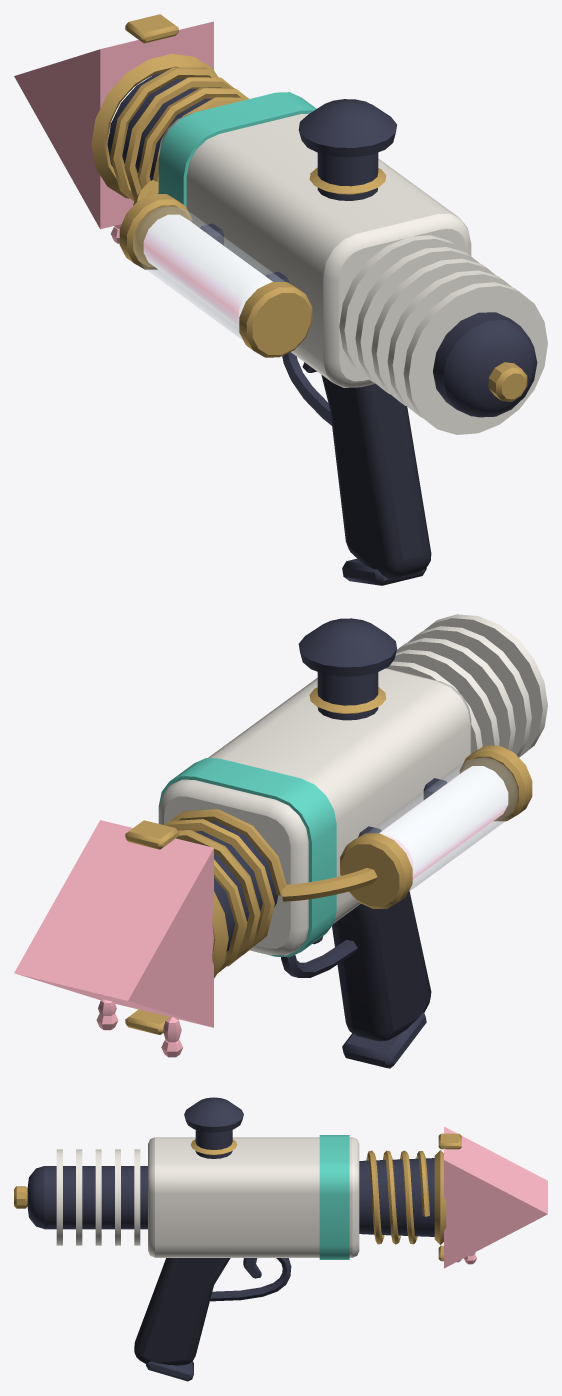
The model's file is weapon_prism_beam.glb.
The picture shows the model from 3 angles, top to bottom: view 1: azimuth 30°, elevation 25°; view 2: azimuth 150°, elevation 25°; view 3: azimuth 270°, elevation 25°; orthographic projection. The views are drawn at different scales.
Parts seen in each view (by area): view 1: Housing, Grip, Muzzle, Cell, Fin4, Fill, Chimney, Coil, BackCap, SkinBand, CellCap0, Fin0 (+12 smaller); view 2: Housing, Muzzle, Grip, Cell, SkinBand, Coil, Fill, Chimney, CellCap1, Fin4, Fin3, Fin2 (+12 smaller); view 3: Housing, Muzzle, Grip, HeatCore, LensBarrel, SkinBand, Coil, Chimney, TriggerGuard, Bezel, BackCap, Fin0 (+6 smaller).
Part boxes in pixels (bbox=[...]): Housing: bbox=[158, 113, 471, 387]; Grip: bbox=[321, 375, 431, 579]; Muzzle: bbox=[14, 21, 213, 229]; Cell: bbox=[134, 206, 284, 339]; Fin4: bbox=[403, 282, 547, 434]; Fill: bbox=[143, 214, 272, 328]; Chimney: bbox=[298, 99, 396, 200]; Coil: bbox=[110, 67, 248, 201]; BackCap: bbox=[443, 320, 537, 417]; SkinBand: bbox=[158, 92, 316, 207]; CellCap0: bbox=[239, 282, 312, 357]; Fin0: bbox=[339, 235, 463, 382]; Housing: bbox=[158, 668, 471, 955]; Muzzle: bbox=[14, 820, 213, 1027]; Grip: bbox=[332, 890, 431, 1041]; Cell: bbox=[368, 757, 517, 890]; SkinBand: bbox=[158, 758, 336, 957]; Coil: bbox=[164, 809, 286, 972]; Fill: bbox=[379, 766, 508, 879]; Chimney: bbox=[298, 618, 396, 720]; CellCap1: bbox=[340, 833, 412, 908]; Fin4: bbox=[423, 614, 547, 757]; Fin3: bbox=[407, 626, 531, 756]; Fin2: bbox=[396, 638, 515, 751]; Housing: bbox=[148, 1137, 359, 1257]; Muzzle: bbox=[444, 1126, 547, 1268]; Grip: bbox=[134, 1258, 230, 1365]; HeatCore: bbox=[44, 1166, 147, 1229]; LensBarrel: bbox=[359, 1158, 434, 1236]; SkinBand: bbox=[319, 1135, 349, 1259]; Coil: bbox=[366, 1150, 429, 1244]; Chimney: bbox=[184, 1097, 243, 1158]; TriggerGuard: bbox=[210, 1258, 291, 1301]; Bezel: bbox=[434, 1150, 446, 1244]; BackCap: bbox=[27, 1166, 44, 1228]; Fin0: bbox=[134, 1149, 140, 1245].
Bounding box in the file's own units: 0.1733 × 0.3429 × 0.606.
